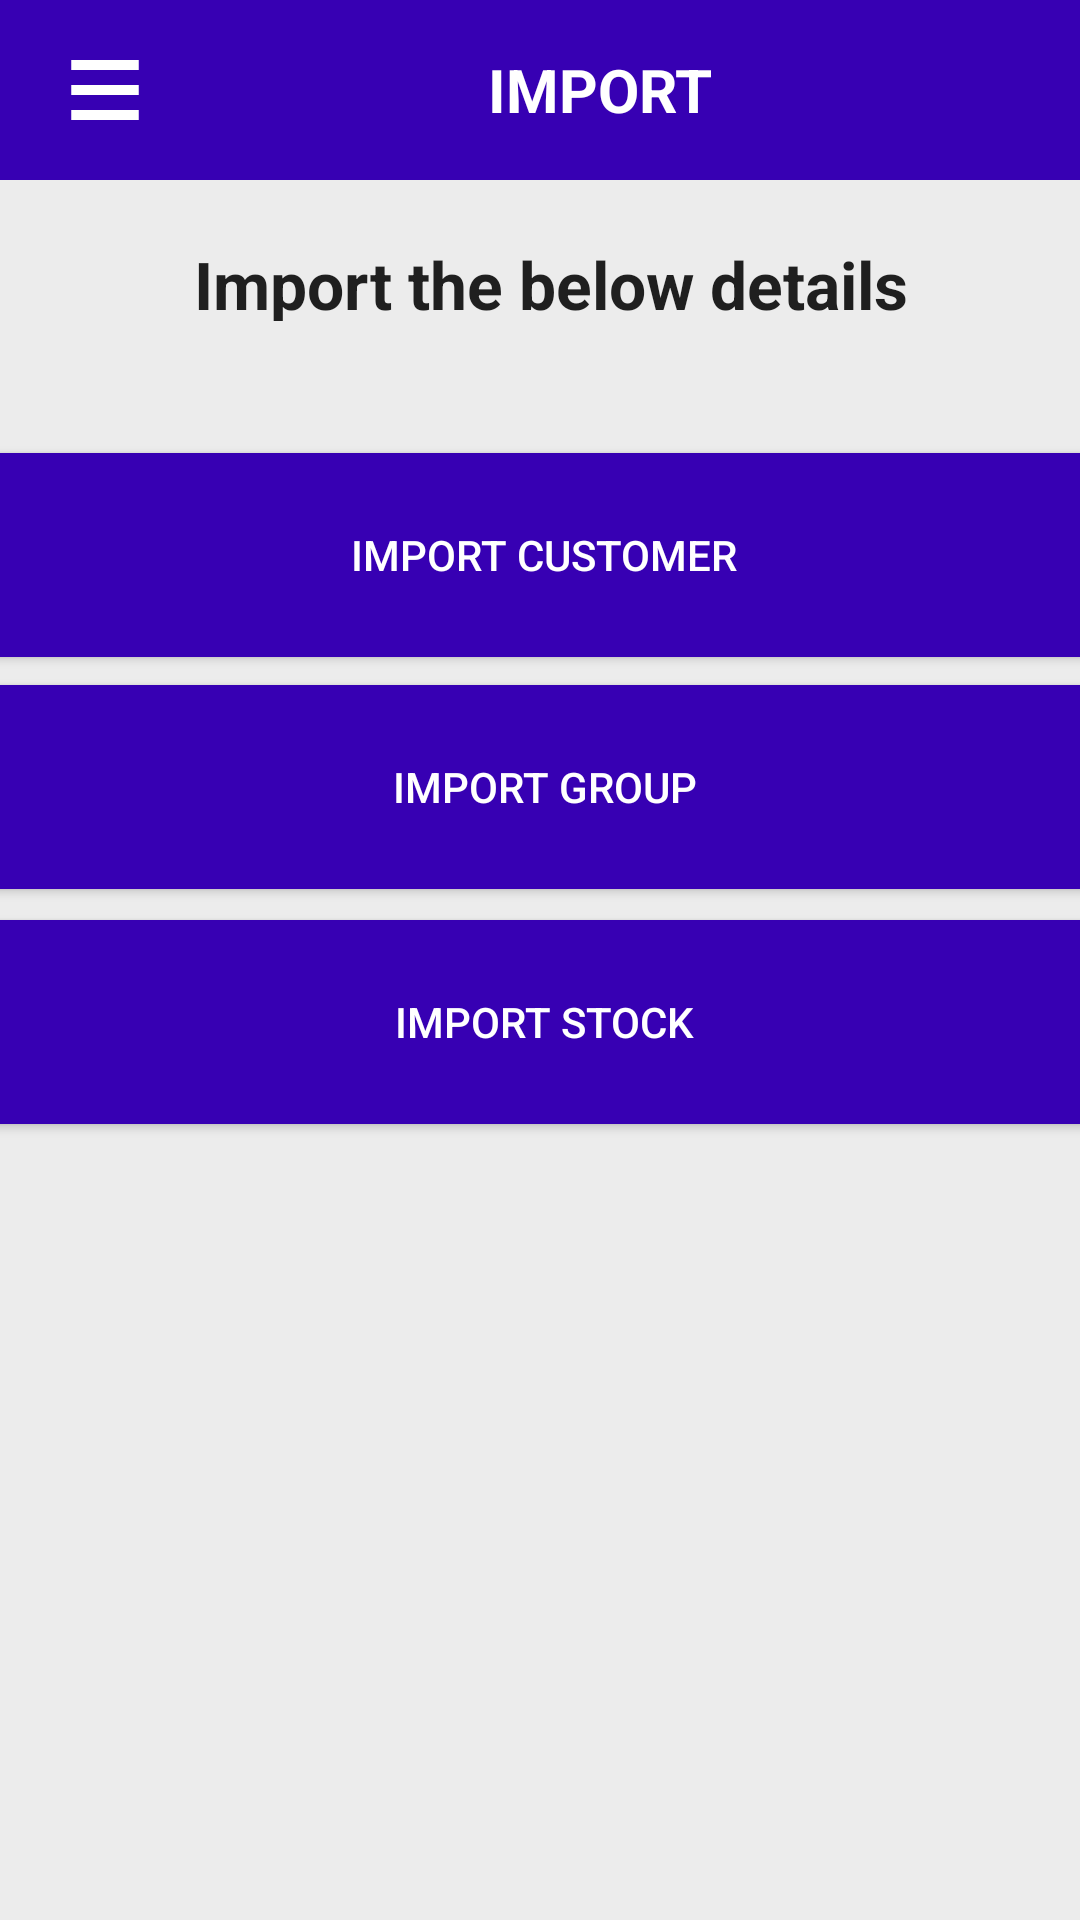

Screen size 1080×1920. Icon name, then its box in pixels as (x1, y1, x2, y2):
bar: (71, 60, 139, 120)
